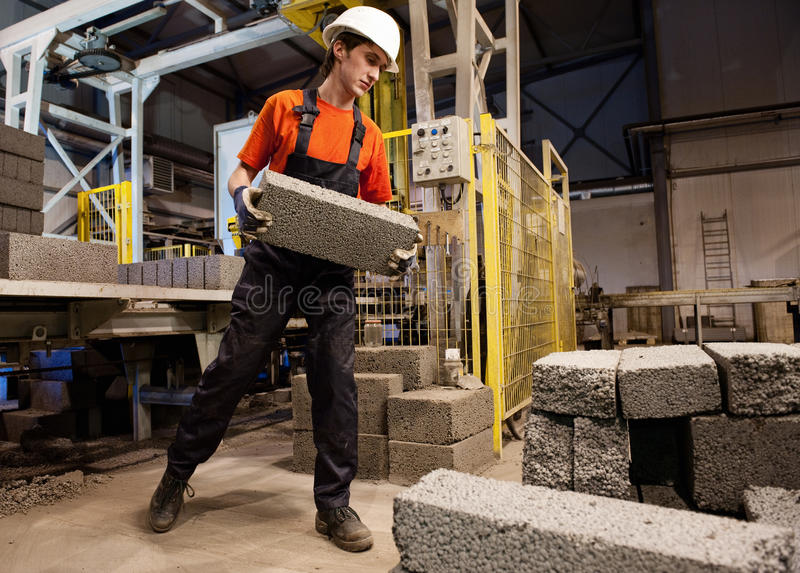person: (149, 8, 390, 554)
